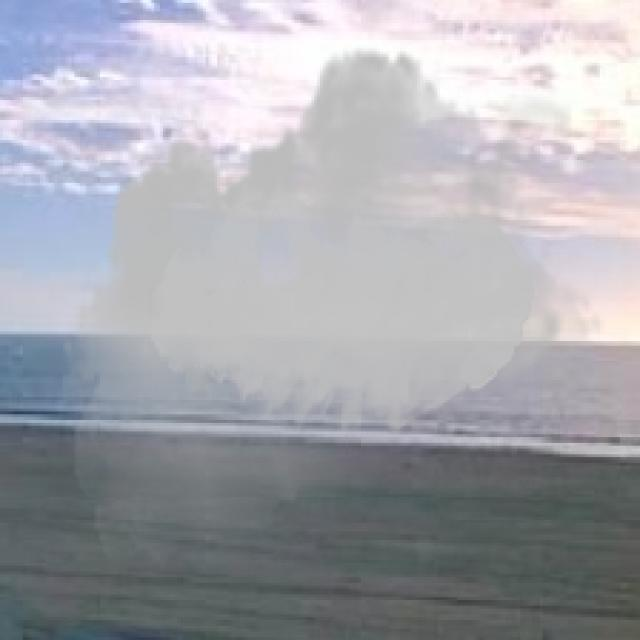smoke: (63, 26, 606, 591)
